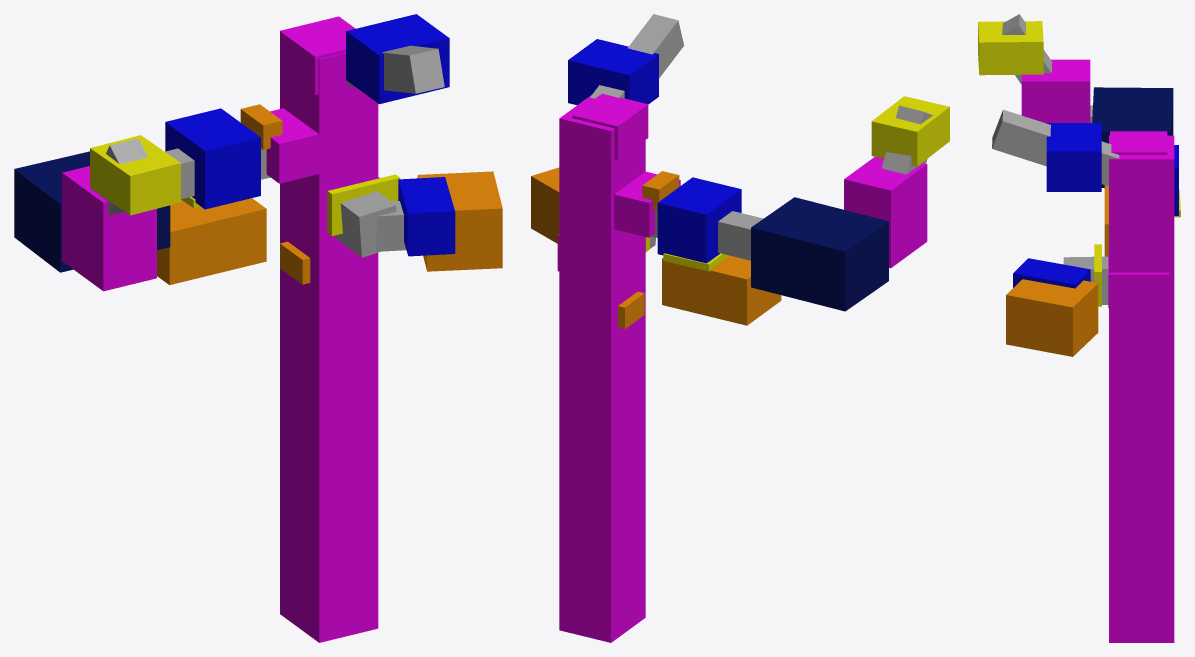
Rendered from CoreZoneIzquierda.fbx.
3 views of the same model, side by side, from view 1: azimuth 30°, elevation 25°; view 2: azimuth 150°, elevation 25°; view 3: azimuth 270°, elevation 25° (orthographic). The views are drawn at different scales.
Parts seen in each view (by area): view 1: Propuesta_LEVEL_Sof_0001_plataformeo18, Propuesta_LEVEL_Sof_0001_plataformeo2, Propuesta_LEVEL_Sof_0001_tesoro2, Propuesta_LEVEL_Sof_0001_combate2, Propuesta_LEVEL_Sof_0001_combate_enemigo_pesado1, Propuesta_LEVEL_Sof_0001_tesoro10, Propuesta_LEVEL_Sof_0001_combate6, Propuesta_LEVEL_Sof_0001_ALC11, Propuesta_LEVEL_Sof_0001_combate1, Propuesta_LEVEL_Sof_0001_plataformeo11, Propuesta_LEVEL_Sof_0001_plataformeo10, Propuesta_LEVEL_Sof_0001_pasillo21 (+7 smaller); view 2: Propuesta_LEVEL_Sof_0001_plataformeo18, Propuesta_LEVEL_Sof_0001_combate_enemigo_pesado1, Propuesta_LEVEL_Sof_0001_plataformeo2, Propuesta_LEVEL_Sof_0001_tesoro2, Propuesta_LEVEL_Sof_0001_combate2, Propuesta_LEVEL_Sof_0001_combate6, Propuesta_LEVEL_Sof_0001_ALC11, Propuesta_LEVEL_Sof_0001_plataformeo11, Propuesta_LEVEL_Sof_0001_pasillo21, Propuesta_LEVEL_Sof_0001_plataformeo10, Propuesta_LEVEL_Sof_0001_tesoro10, Propuesta_LEVEL_Sof_0001_pasillo35 (+3 smaller); view 3: Propuesta_LEVEL_Sof_0001_plataformeo18, Propuesta_LEVEL_Sof_0001_tesoro10, Propuesta_LEVEL_Sof_0001_plataformeo2, Propuesta_LEVEL_Sof_0001_combate6, Propuesta_LEVEL_Sof_0001_combate_enemigo_pesado1, Propuesta_LEVEL_Sof_0001_ALC11, Propuesta_LEVEL_Sof_0001_pasillo21, Propuesta_LEVEL_Sof_0001_plataformeo4, Propuesta_LEVEL_Sof_0001_combate1, Propuesta_LEVEL_Sof_0001_plataformeo11, Propuesta_LEVEL_Sof_0001_pasillo25, Propuesta_LEVEL_Sof_0001_pasillo40 (+3 smaller).
Part boxes in pixels (x1,y1,x2,y2): Propuesta_LEVEL_Sof_0001_plataformeo18: (280,16,378,642); Propuesta_LEVEL_Sof_0001_plataformeo2: (62,166,156,291); Propuesta_LEVEL_Sof_0001_tesoro2: (157,198,266,285); Propuesta_LEVEL_Sof_0001_combate2: (165,108,260,209); Propuesta_LEVEL_Sof_0001_combate_enemigo_pesado1: (14,151,170,272); Propuesta_LEVEL_Sof_0001_tesoro10: (417,171,502,271); Propuesta_LEVEL_Sof_0001_combate6: (346,14,449,104); Propuesta_LEVEL_Sof_0001_ALC11: (90,135,180,215); Propuesta_LEVEL_Sof_0001_combate1: (398,177,455,256); Propuesta_LEVEL_Sof_0001_plataformeo11: (280,19,347,95); Propuesta_LEVEL_Sof_0001_plataformeo10: (266,108,319,183); Propuesta_LEVEL_Sof_0001_pasillo21: (347,45,444,93); Propuesta_LEVEL_Sof_0001_plataformeo18: (559,95,645,642); Propuesta_LEVEL_Sof_0001_combate_enemigo_pesado1: (751,197,888,311); Propuesta_LEVEL_Sof_0001_plataformeo2: (844,157,927,268); Propuesta_LEVEL_Sof_0001_tesoro2: (662,255,781,325); Propuesta_LEVEL_Sof_0001_combate2: (657,177,741,263); Propuesta_LEVEL_Sof_0001_combate6: (568,39,658,105); Propuesta_LEVEL_Sof_0001_ALC11: (871,96,949,166); Propuesta_LEVEL_Sof_0001_plataformeo11: (572,93,648,160); Propuesta_LEVEL_Sof_0001_pasillo21: (590,14,683,98); Propuesta_LEVEL_Sof_0001_plataformeo10: (614,171,680,237); Propuesta_LEVEL_Sof_0001_tesoro10: (531,167,559,243); Propuesta_LEVEL_Sof_0001_pasillo35: (651,210,763,260); Propuesta_LEVEL_Sof_0001_plataformeo18: (1109,135,1174,642); Propuesta_LEVEL_Sof_0001_tesoro10: (1006,279,1098,356); Propuesta_LEVEL_Sof_0001_plataformeo2: (1021,59,1090,123); Propuesta_LEVEL_Sof_0001_combate6: (1046,123,1101,191); Propuesta_LEVEL_Sof_0001_combate_enemigo_pesado1: (1092,87,1173,188); Propuesta_LEVEL_Sof_0001_ALC11: (978,21,1043,75); Propuesta_LEVEL_Sof_0001_pasillo21: (992,109,1119,186); Propuesta_LEVEL_Sof_0001_plataformeo4: (1108,252,1169,308); Propuesta_LEVEL_Sof_0001_combate1: (1013,258,1090,288); Propuesta_LEVEL_Sof_0001_plataformeo11: (1110,131,1167,154); Propuesta_LEVEL_Sof_0001_pasillo25: (1063,256,1108,304); Propuesta_LEVEL_Sof_0001_pasillo40: (1002,14,1052,84).
Bounding box in the file's own units: 6556 × 9323 × 3293.
